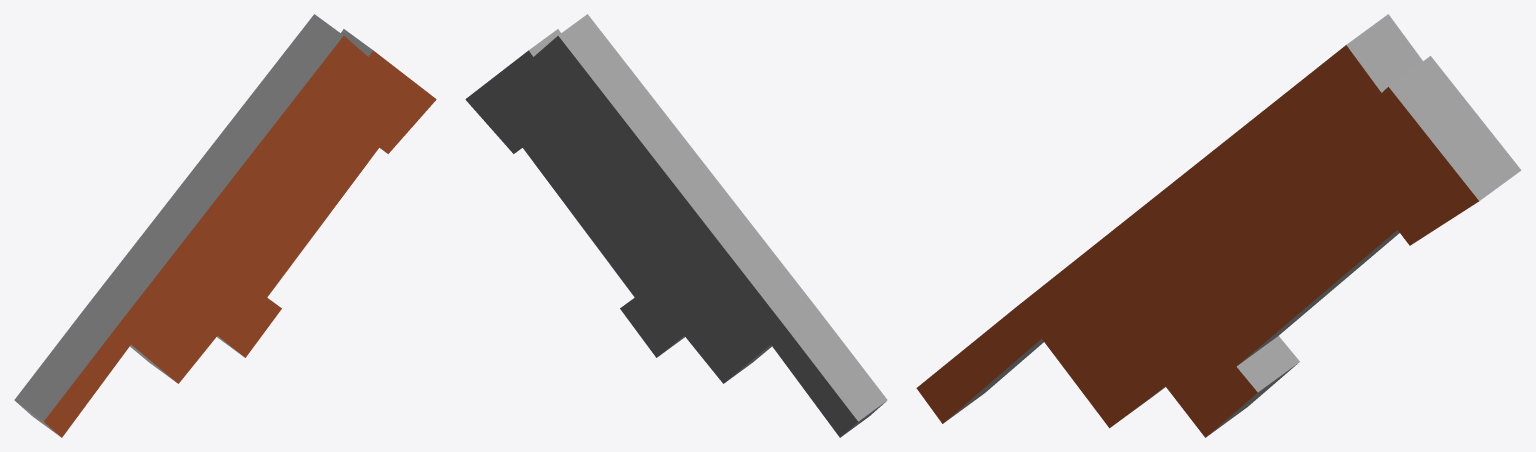
The model's file is construction_2913_assumed_A_Casa_h6m.obj.
The picture shows the model from 3 angles, left to right: view 1: azimuth 30°, elevation 25°; view 2: azimuth 150°, elevation 25°; view 3: azimuth 330°, elevation 25°; orthographic projection. The views are drawn at different scales.
Visible parts, largest first — view 1: construction_2913_assumed_A_Casa; view 2: construction_2913_assumed_A_Casa; view 3: construction_2913_assumed_A_Casa.
Boxes of the visible parts, box(x1,y1,x2,y2) form: construction_2913_assumed_A_Casa: box(14, 14, 436, 437); construction_2913_assumed_A_Casa: box(465, 14, 887, 437); construction_2913_assumed_A_Casa: box(916, 14, 1521, 437).
Bounding box in the file's own units: 46.21 × 37.47 × 6.
